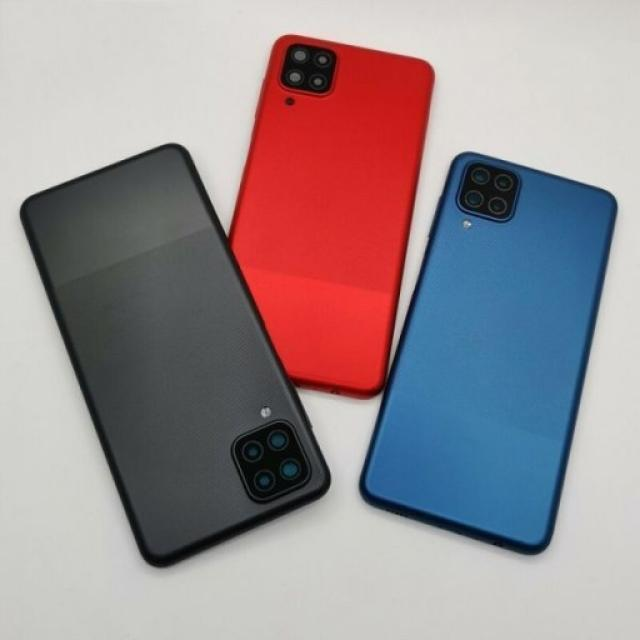lens: (234, 418, 313, 499), (460, 160, 524, 224), (277, 44, 339, 95)
phone: (20, 141, 334, 573), (354, 146, 619, 557), (213, 30, 438, 401)
